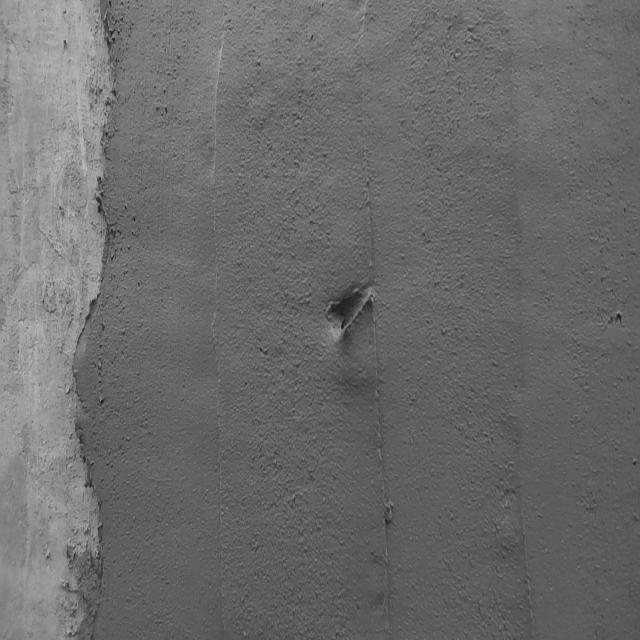trowels marks: (370, 340, 398, 626)
